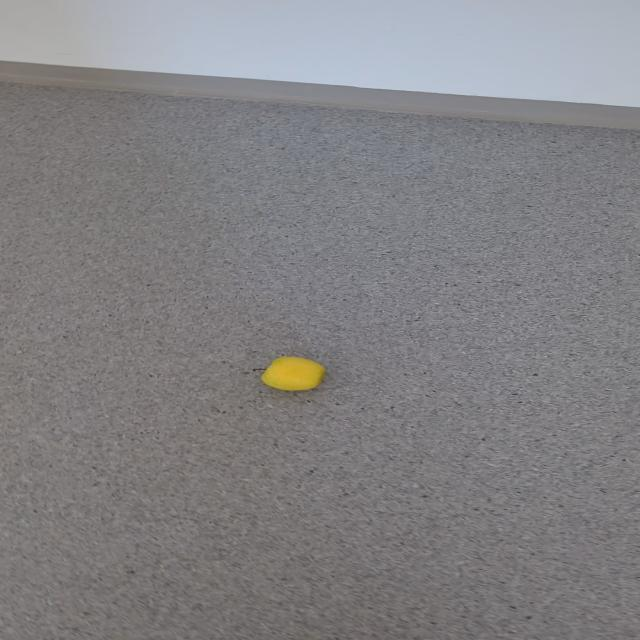apple: (259, 356, 326, 391)
